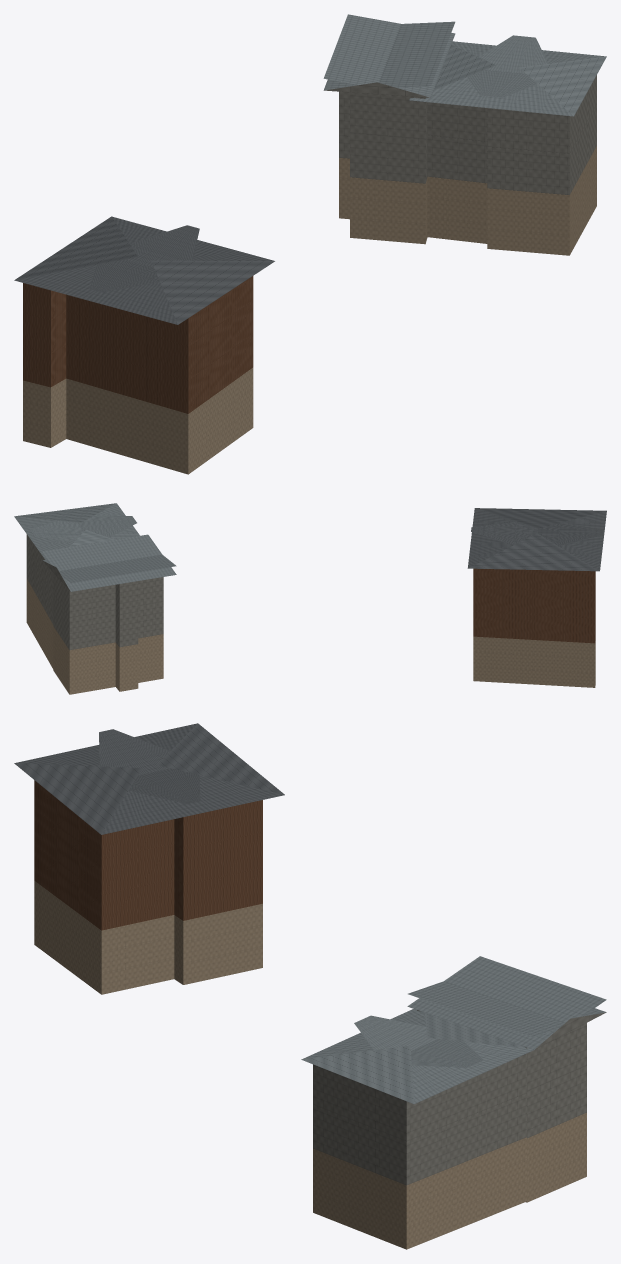
File: bld_c10_17_436.gltf
3 renders of one model, top to bottom at view 1: azimuth 30°, elevation 25°; view 2: azimuth 150°, elevation 25°; view 3: azimuth 270°, elevation 25°, orthographic. The views are drawn at different scales.
Parts seen in each view (by area): view 1: bld_c10_17_436; view 2: bld_c10_17_436; view 3: bld_c10_17_436.
Part boxes in pixels (x1,y1,x2,y2): bld_c10_17_436: [14, 14, 606, 474]; bld_c10_17_436: [14, 503, 606, 694]; bld_c10_17_436: [14, 723, 606, 1249].
Bounding box in the file's own units: 61.26 × 14.9 × 42.68.
6 materials, 6 textured.
